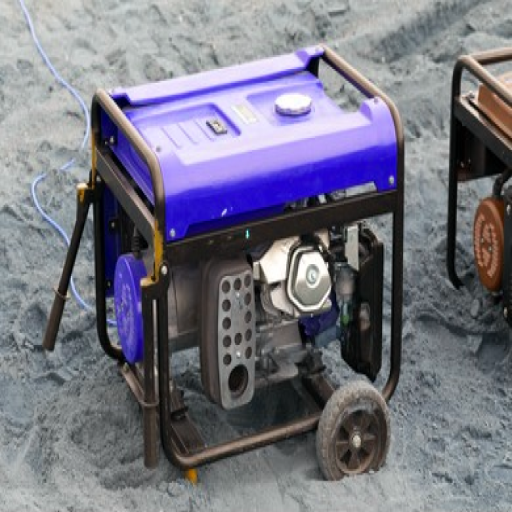portable_generator: (93, 43, 405, 473)
